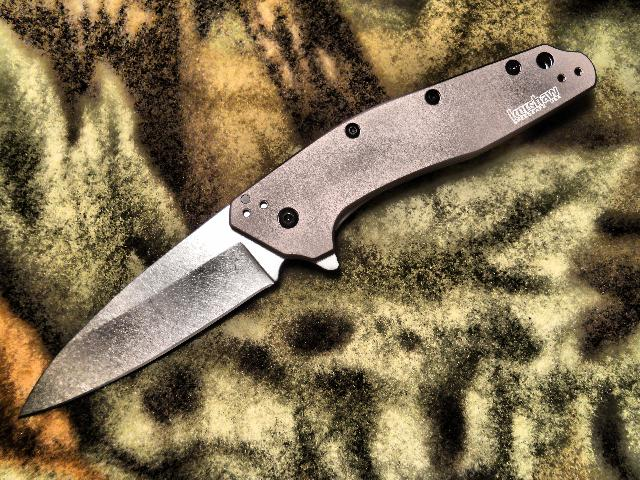knife: (11, 190, 299, 430)
